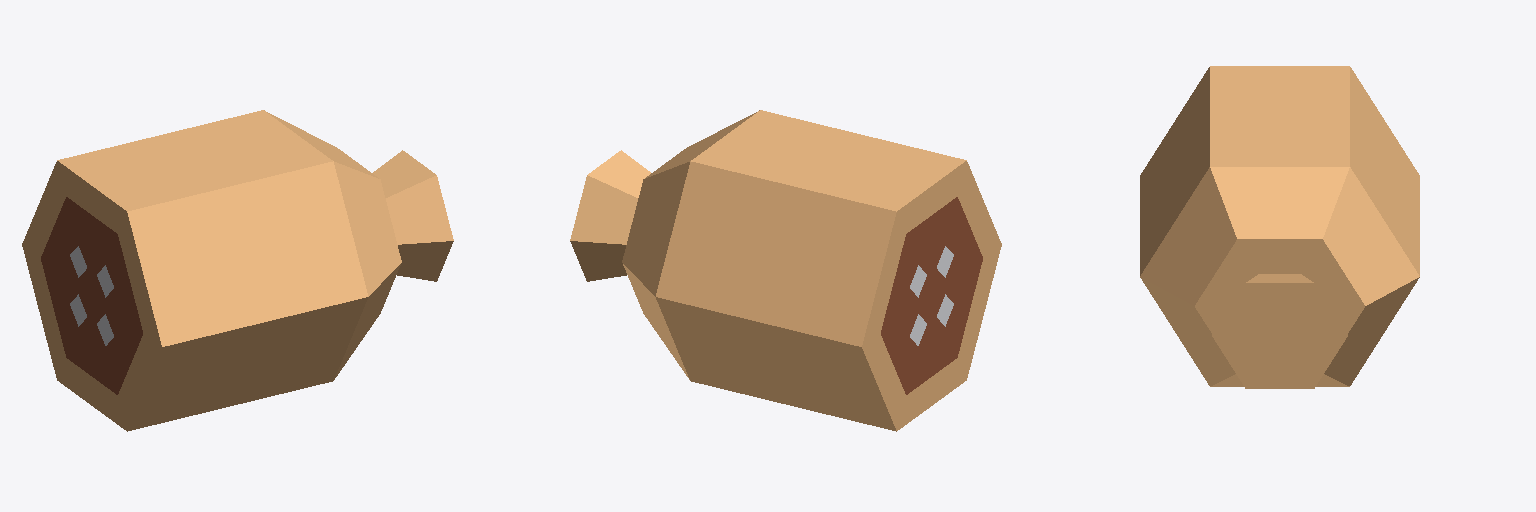
File: sausageHalf.obj
The picture shows the model from 3 angles: view 1: azimuth 30°, elevation 25°; view 2: azimuth 150°, elevation 25°; view 3: azimuth 270°, elevation 25°; orthographic projection.
Visible parts, largest first — view 1: sausageHalf; view 2: sausageHalf; view 3: sausageHalf.
Boxes of the visible parts, x1=… form: sausageHalf: x1=22, y1=110, x2=453, y2=431; sausageHalf: x1=570, y1=110, x2=1001, y2=431; sausageHalf: x1=1140, y1=66, x2=1419, y2=388.
Bounding box in the file's own units: 0.1853 × 0.1189 × 0.1373.